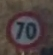limite 70: (5, 11, 45, 49)
